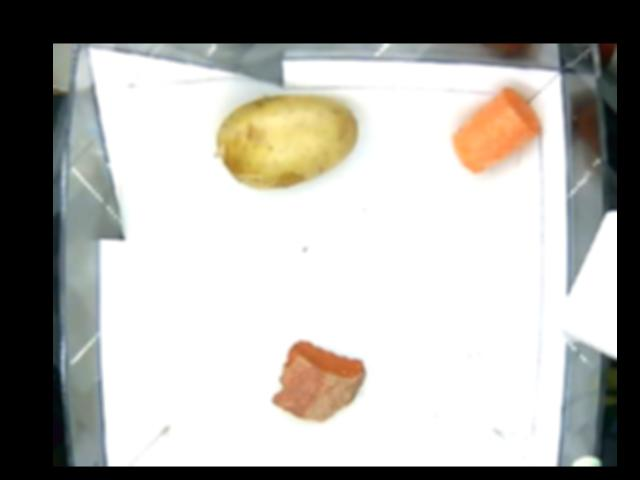Brisk: (269, 340, 366, 422)
Carrot: (450, 87, 539, 174)
Potato: (216, 96, 357, 191)
